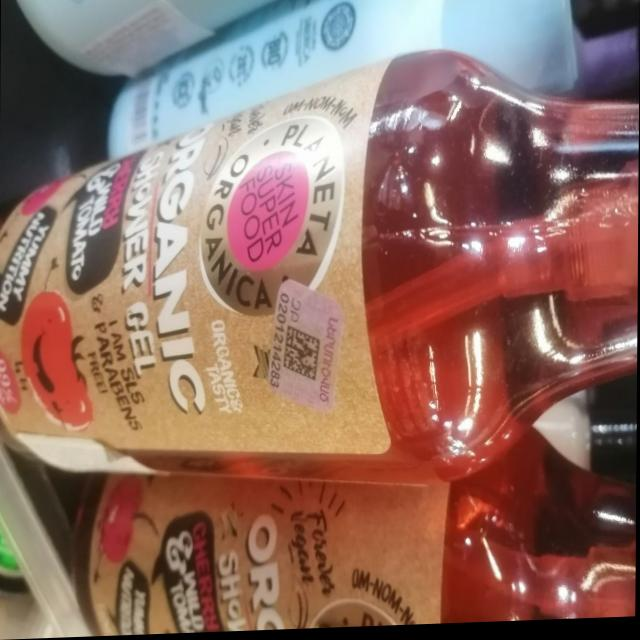datamatrix: (283, 328, 323, 387)
